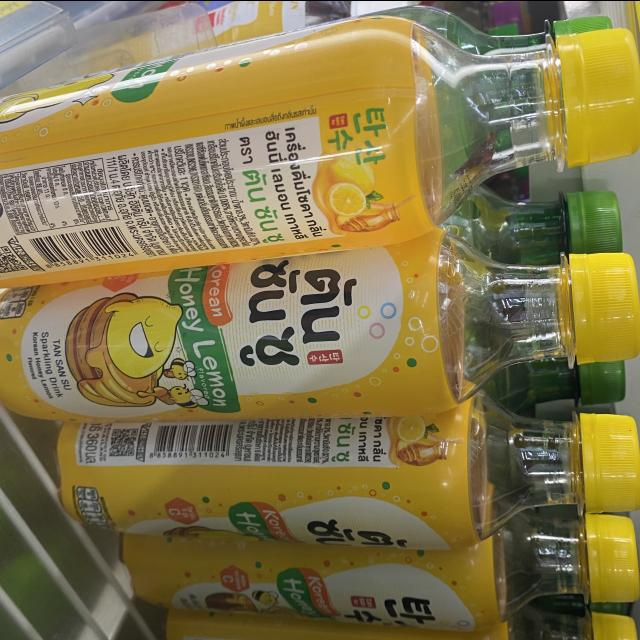plastik: (0, 15, 640, 286), (0, 228, 640, 419), (58, 392, 640, 548), (123, 510, 639, 629)
